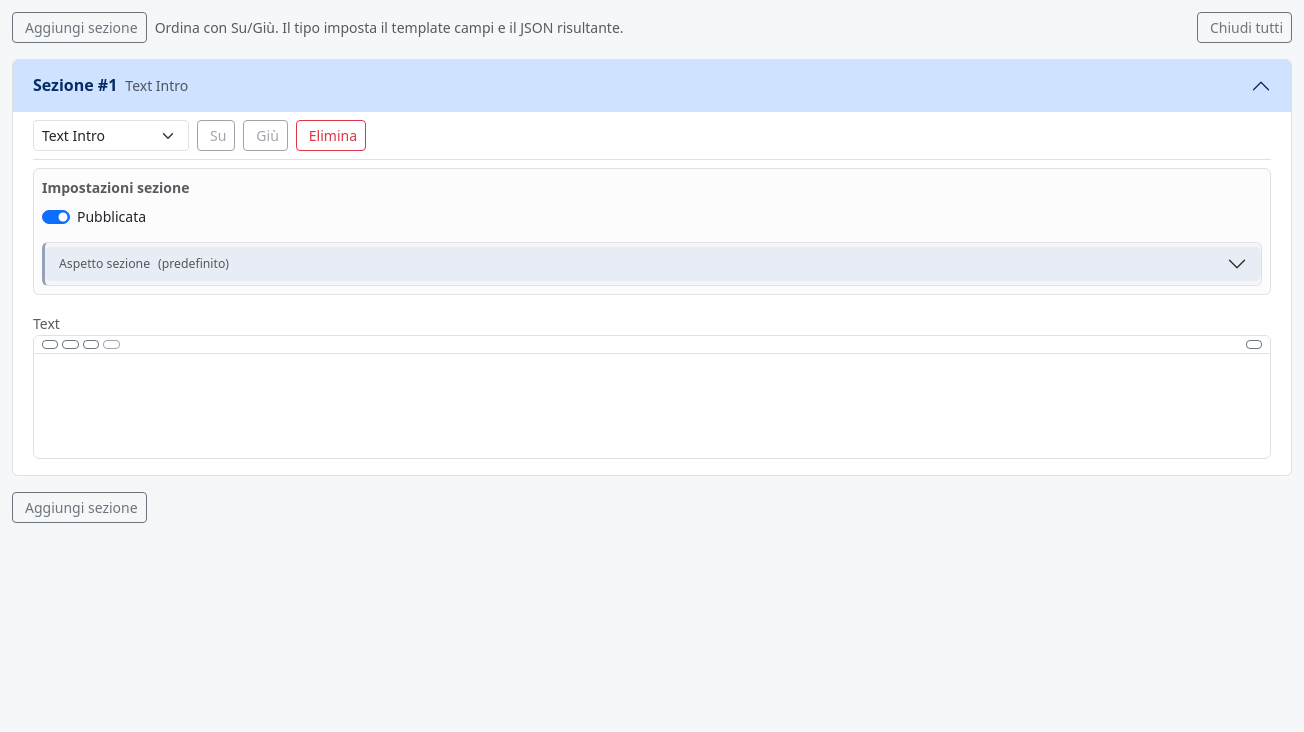
Scenario: SectionsEditor › cambio tipo in SplitContent mostra LeftText e RightText
Select "SplitContent" in the dropdown named "Tipo sezione": (111, 136) [33,120,189,151]
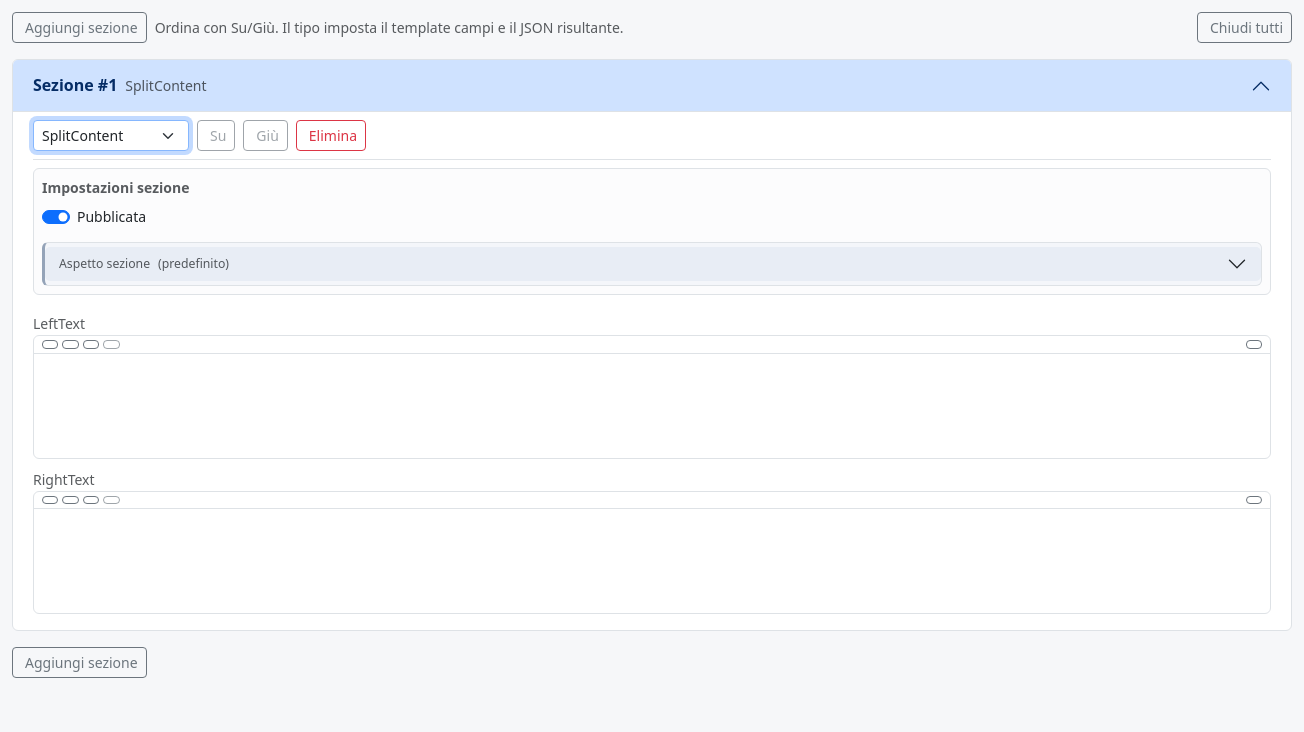
expect the element "LeftText" is shown: met, box [33,311,1271,459]
expect the element "RightText" is shown: met, box [33,467,1271,614]
